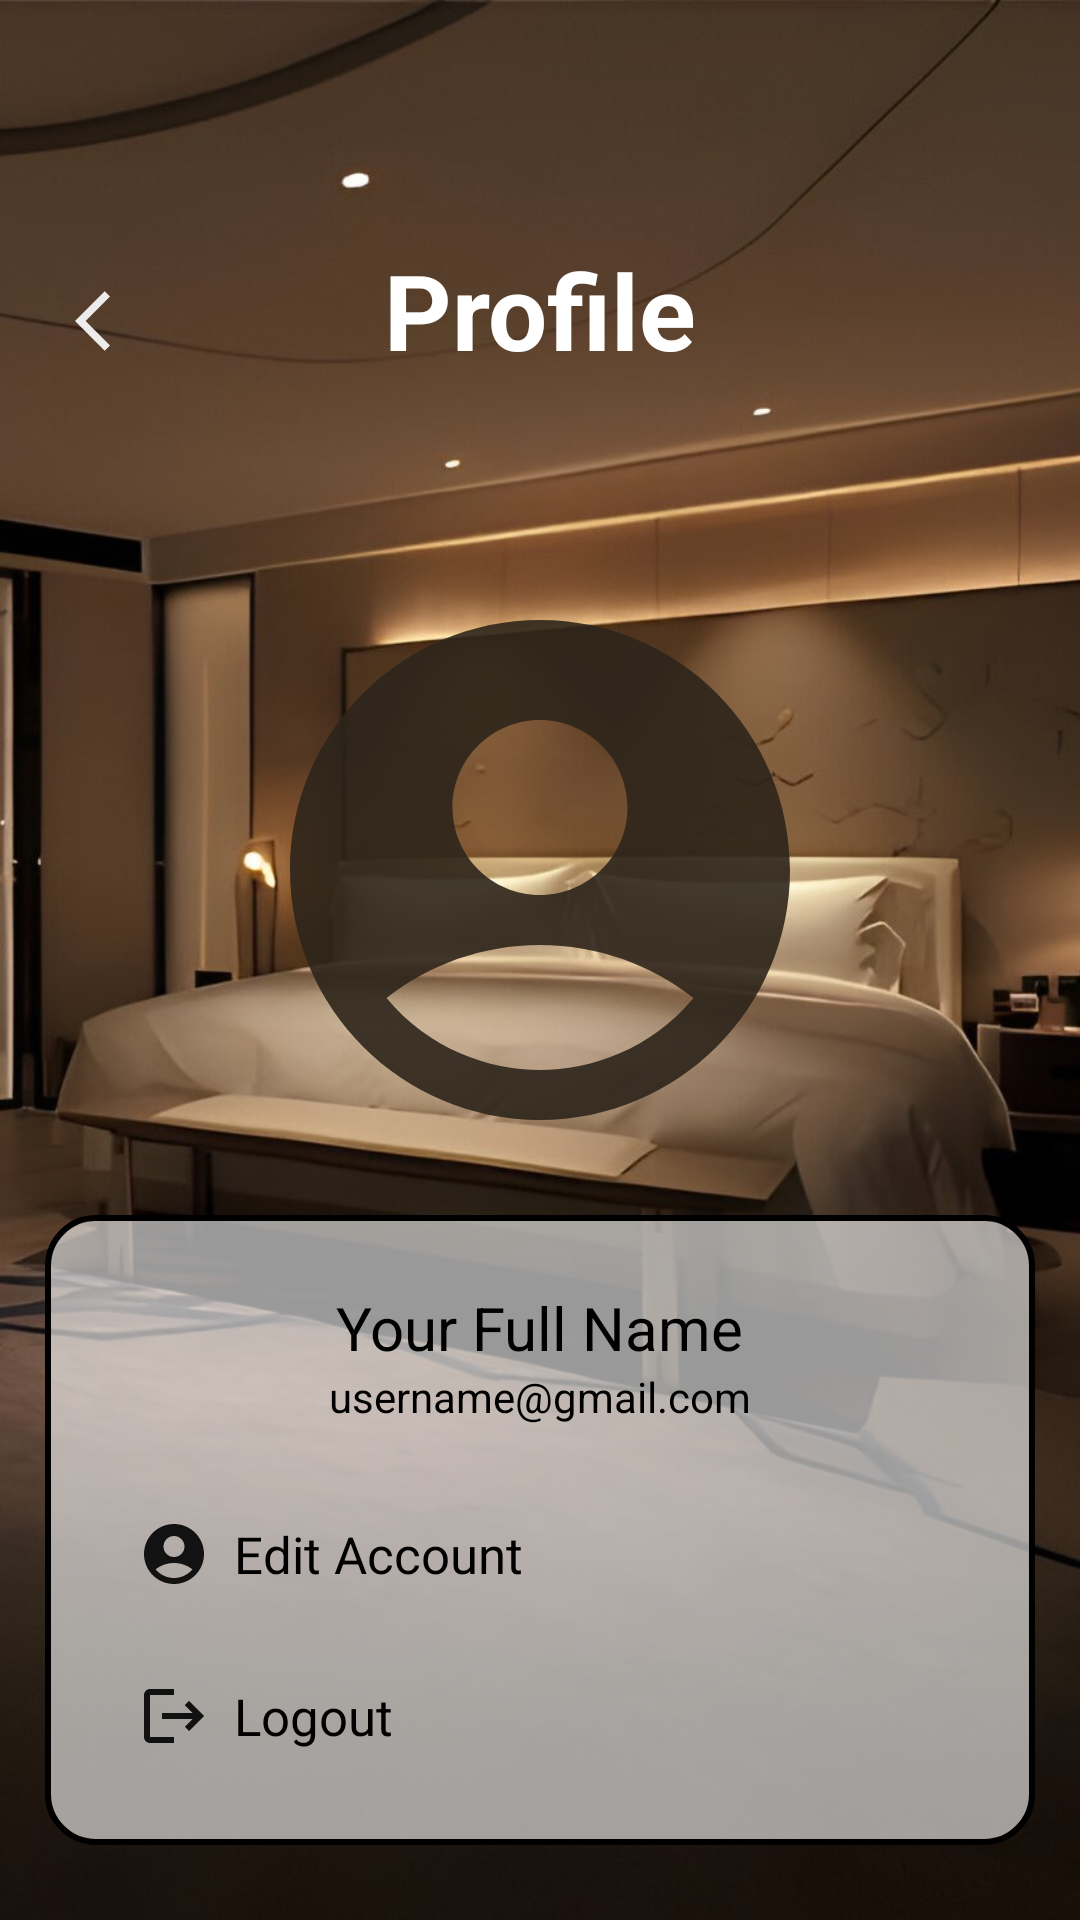

Screen size 1080px×1920px. Icon name, then its box in pixels as bbox=(x1, y1, x2, y2):
Back: bbox=(75, 291, 126, 351)
